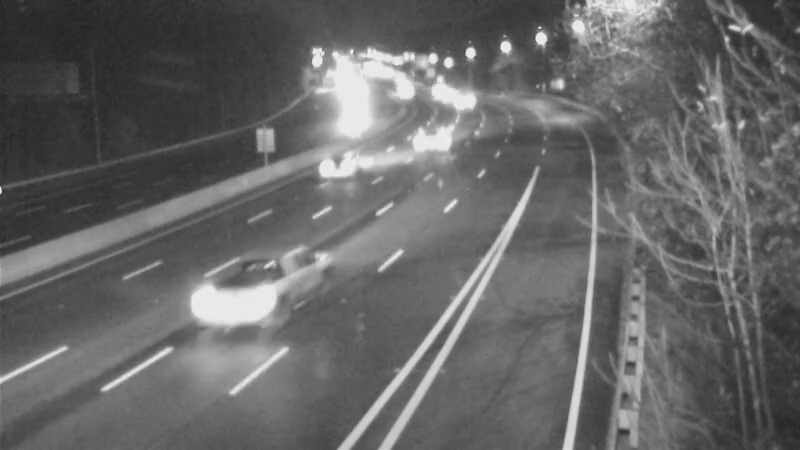vehicle: (183, 248, 293, 358), (296, 123, 376, 203), (438, 80, 488, 130), (412, 109, 462, 159)
